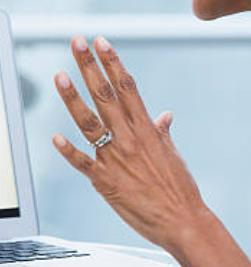down: (47, 31, 201, 242)
